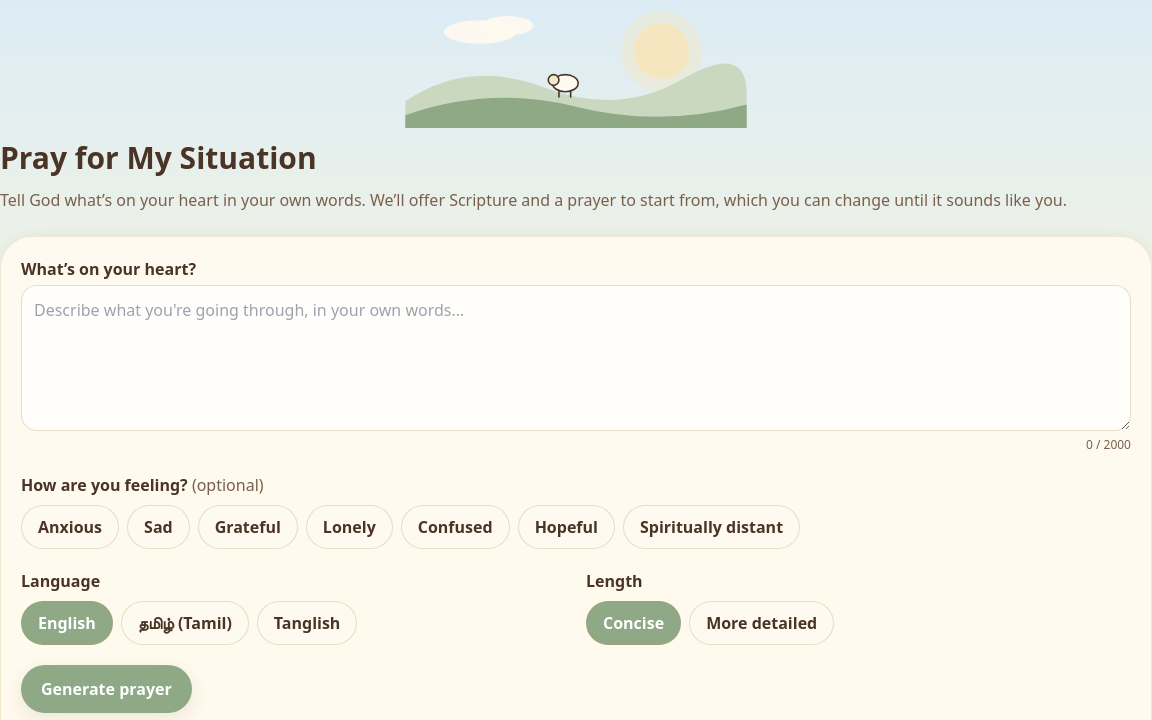
it: Scripture is rendered separately from generated text › says so plainly when no verified passage fits, instead of showing one
The width and height of the screenshot is (1152, 720).
Type "I am anxious about my exams and cannot sleep." into the text box labelled "What’s on your heart? 0 / 2000" at (576, 358), box [21,285,1131,431]
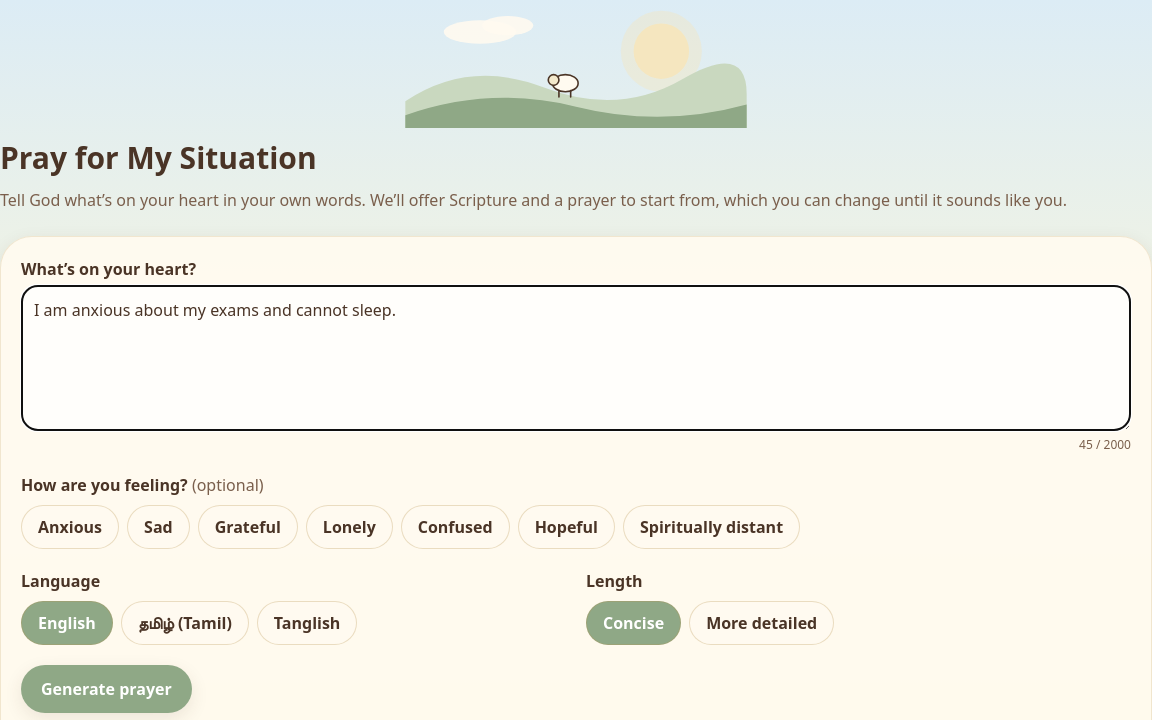
Click the button "Generate prayer" at (106, 689), box [21,665,192,713]
(page scrolled)
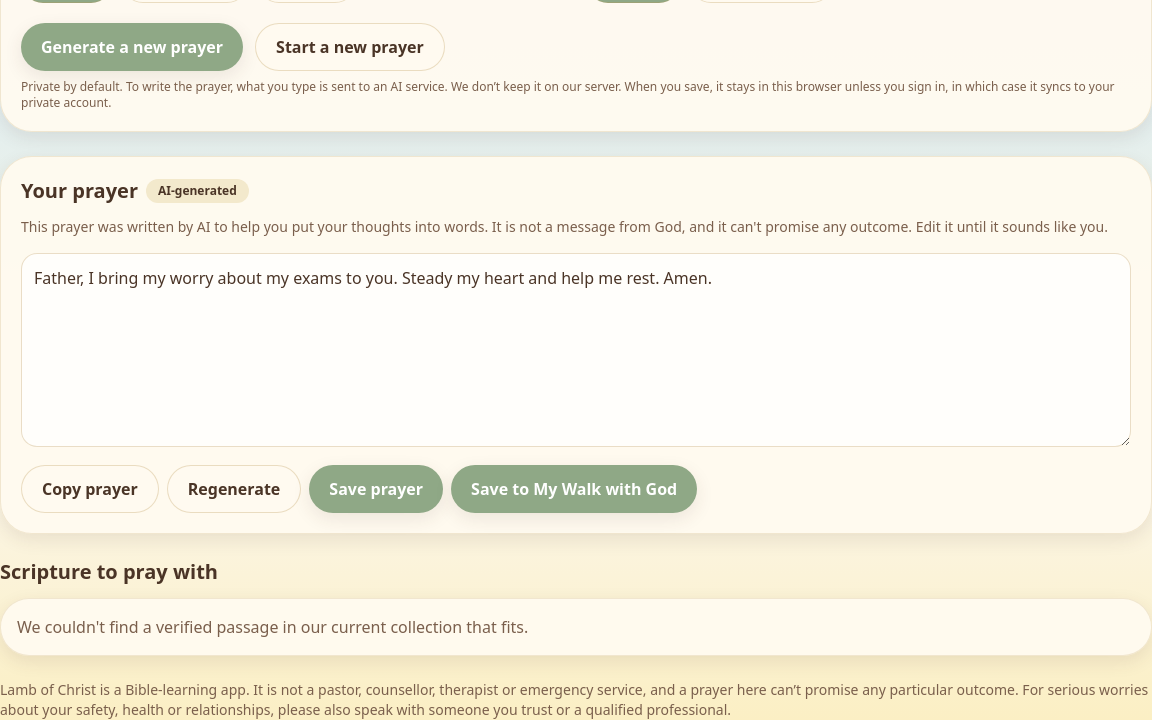
Expected: the text with test id "no-scripture" shows "couldn't find a verified passage", [17,616,528,638]
